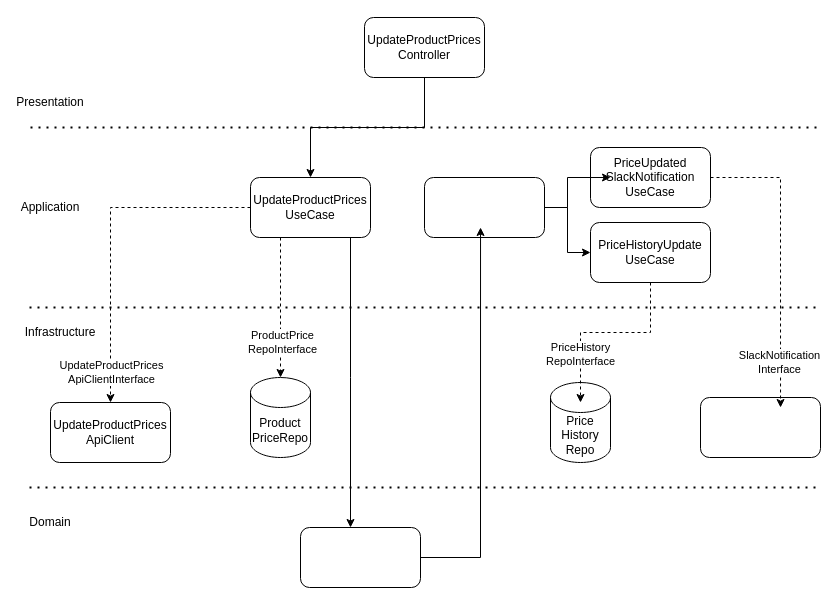
Some shapes in this 840 by 605 pixel diagram are drawn without their labels. The shapes that lost their labels are listed below. From the top down, each one's box as (x1, y1, x2, y2) in pixels, then its label:
(424, 176, 544, 238): ProductPrice UpdatedListener
(700, 396, 820, 458): SlackNotification Service
(300, 526, 420, 588): ProductPrice UpdatedEvent
